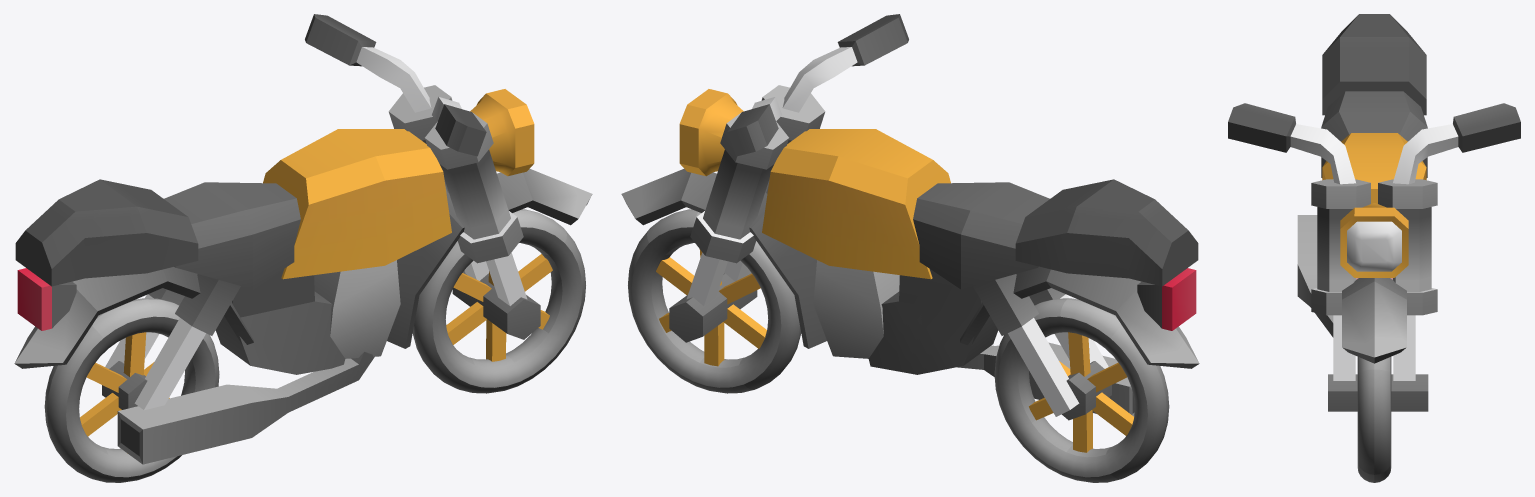
File: motorcycle.fbx
3 views of the same model, side by side, from view 1: azimuth 30°, elevation 25°; view 2: azimuth 150°, elevation 25°; view 3: azimuth 270°, elevation 25° (orthographic). The views are drawn at different scales.
Parts seen in each view (by area): view 1: Cube.006; view 2: Cube.006; view 3: Cube.006.
Boxes of the visible parts, <box> form: Cube.006: <box>14,14,592,482</box>; Cube.006: <box>621,14,1199,482</box>; Cube.006: <box>1228,14,1520,482</box>.
Size of the model in its own units: 432 by 249 by 206.
Materials: 1 (1 with a texture image).
